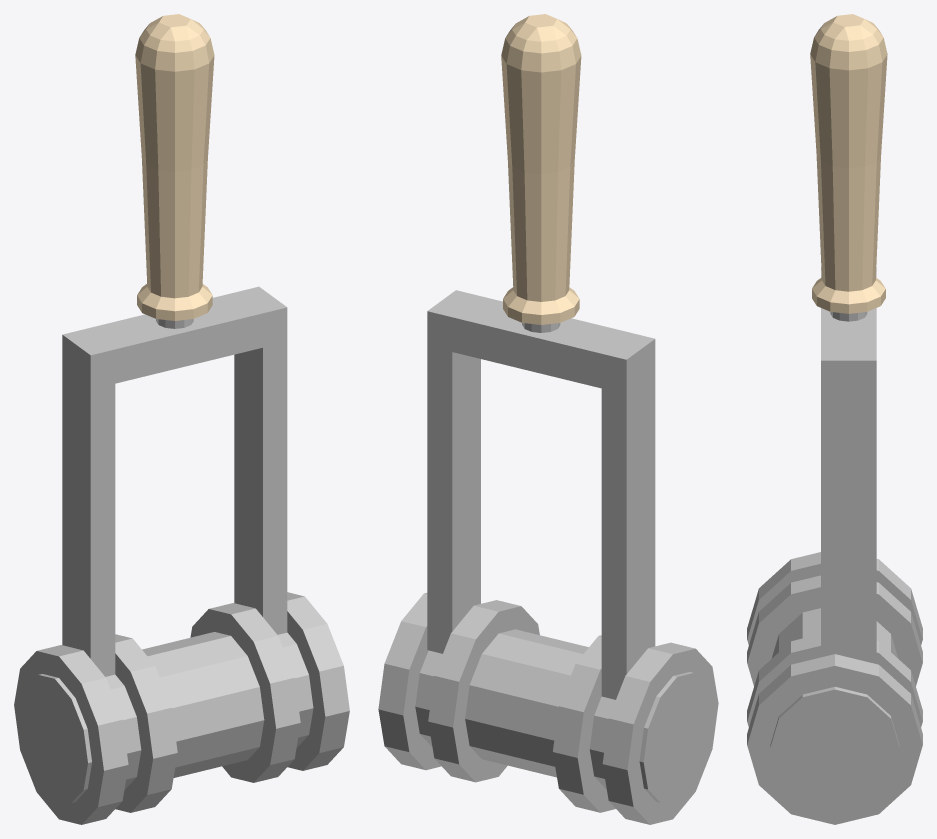
The model's file is mechanical_lever_small.fbx.
3 renders of one model, left to right at view 1: azimuth 30°, elevation 25°; view 2: azimuth 150°, elevation 25°; view 3: azimuth 270°, elevation 25°, orthographic. The views are drawn at different scales.
Parts seen in each view (by area): view 1: mesh1059122803; view 2: mesh1059122803; view 3: mesh1059122803.
Part boxes in pixels (left/top/right/bottom): mesh1059122803: left=14, top=14, right=349, bottom=824; mesh1059122803: left=378, top=14, right=718, bottom=824; mesh1059122803: left=747, top=14, right=922, bottom=824.
Bounding box in the file's own units: 20.81 × 59.33 × 12.67.
